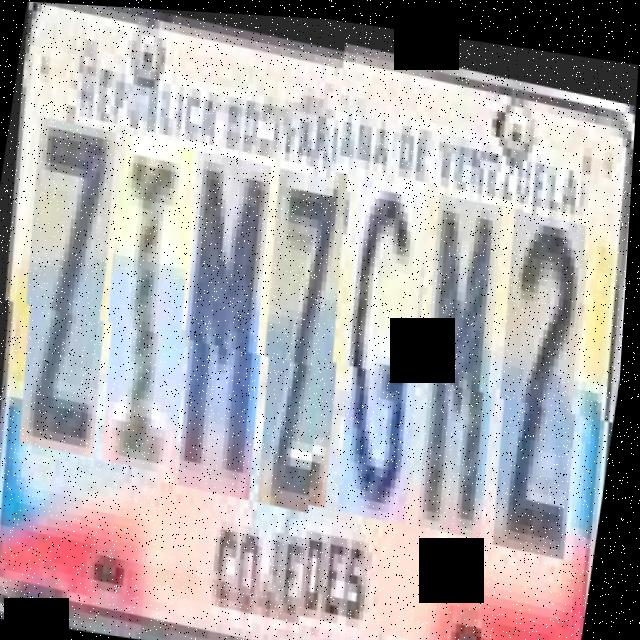2: (474, 204, 609, 553)
G: (319, 174, 450, 523)
I: (84, 130, 218, 470)
M: (159, 144, 294, 493), (398, 190, 525, 537)
Z: (0, 114, 138, 455), (239, 159, 370, 509)
